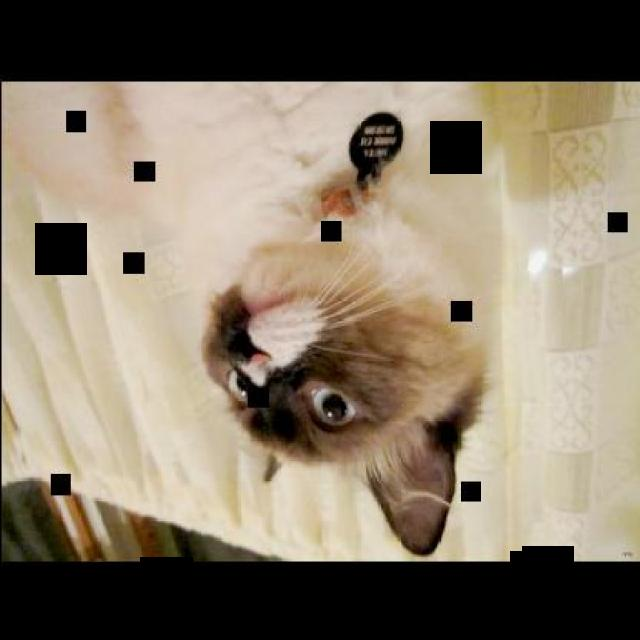unauthorized: (198, 171, 492, 555)
